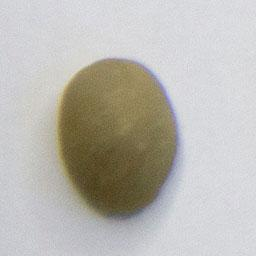premium: (53, 55, 183, 219)
